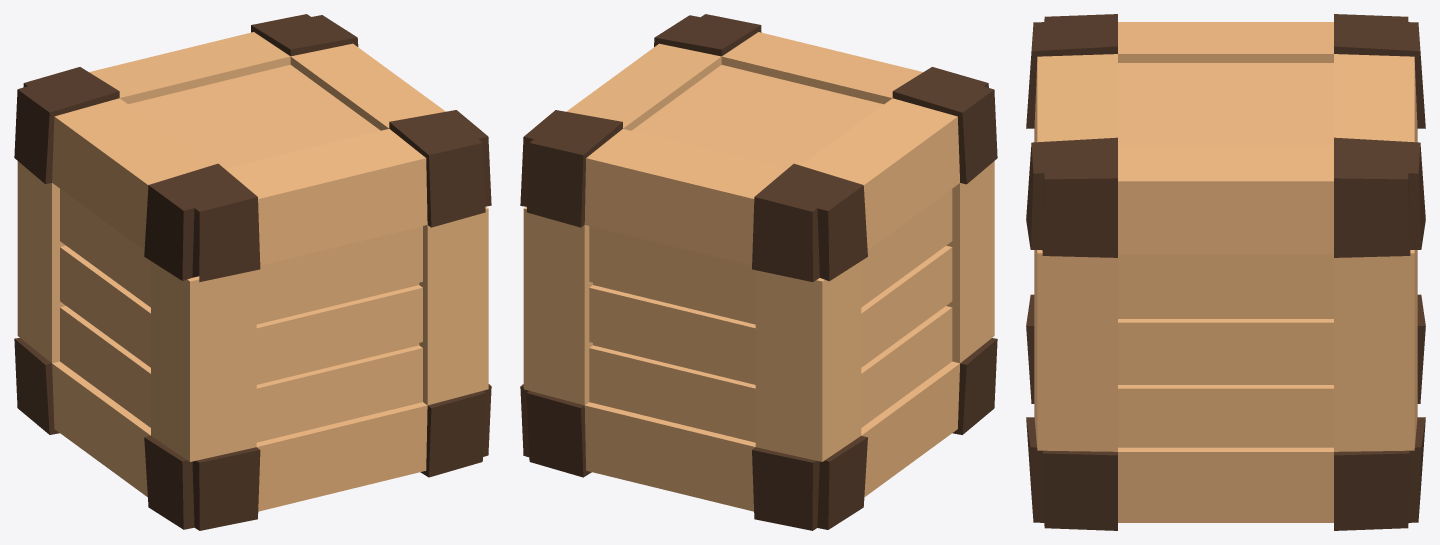
Rendered from cc_wooden_crate1.fbx.
3 renders of one model, left to right at view 1: azimuth 30°, elevation 25°; view 2: azimuth 150°, elevation 25°; view 3: azimuth 270°, elevation 25°, orthographic. The views are drawn at different scales.
Visible parts, largest first — view 1: Cube; view 2: Cube; view 3: Cube.
Boxes of the visible parts, x1=… form: Cube: x1=14, y1=14, x2=491, y2=530; Cube: x1=520, y1=14, x2=997, y2=530; Cube: x1=1026, y1=14, x2=1425, y2=530.
Size of the model in its own units: 440 by 440 by 440.
